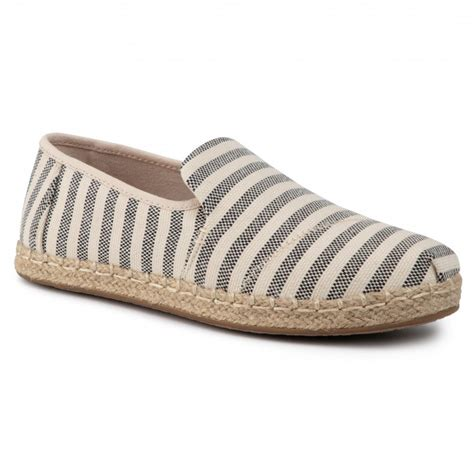nylon: (18, 132, 460, 300)
